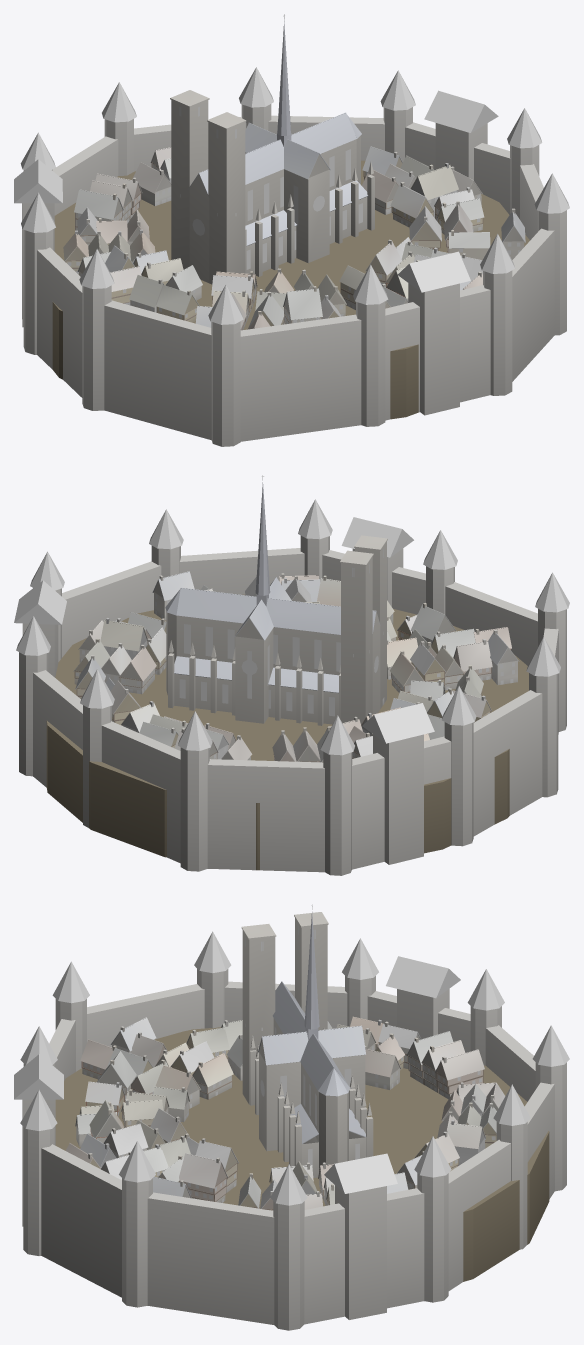
The model's file is city_cathedral.glb.
The picture shows the model from 3 angles, top to bottom: view 1: azimuth 30°, elevation 25°; view 2: azimuth 150°, elevation 25°; view 3: azimuth 270°, elevation 25°; orthographic projection. The views are drawn at different scales.
Visible parts, largest first — view 1: city_cathedral; view 2: city_cathedral; view 3: city_cathedral.
Boxes of the visible parts, x1,y1,x2,y2 form: city_cathedral: (14, 14, 569, 446); city_cathedral: (14, 475, 569, 875); city_cathedral: (14, 904, 569, 1330).
Size of the model in its own units: 2.82 by 1.64 by 2.67.
